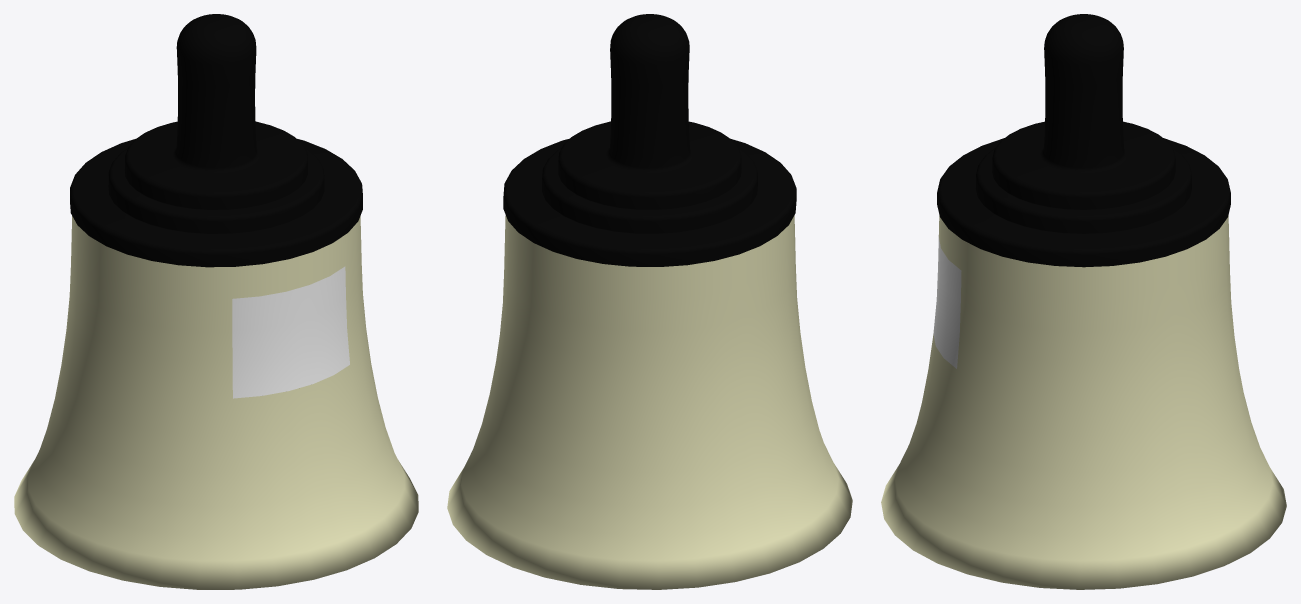
The model's file is Dummy.glb.
3 renders of one model, left to right at view 1: azimuth 30°, elevation 25°; view 2: azimuth 150°, elevation 25°; view 3: azimuth 270°, elevation 25°, orthographic.
Visible parts, largest first — view 1: Dummy; view 2: Dummy; view 3: Dummy.
Boxes of the visible parts, <box> form: Dummy: <box>14,14,418,589</box>; Dummy: <box>447,14,852,589</box>; Dummy: <box>881,14,1286,589</box>.
Size of the model in its own units: 1.18 by 1.54 by 1.18.
